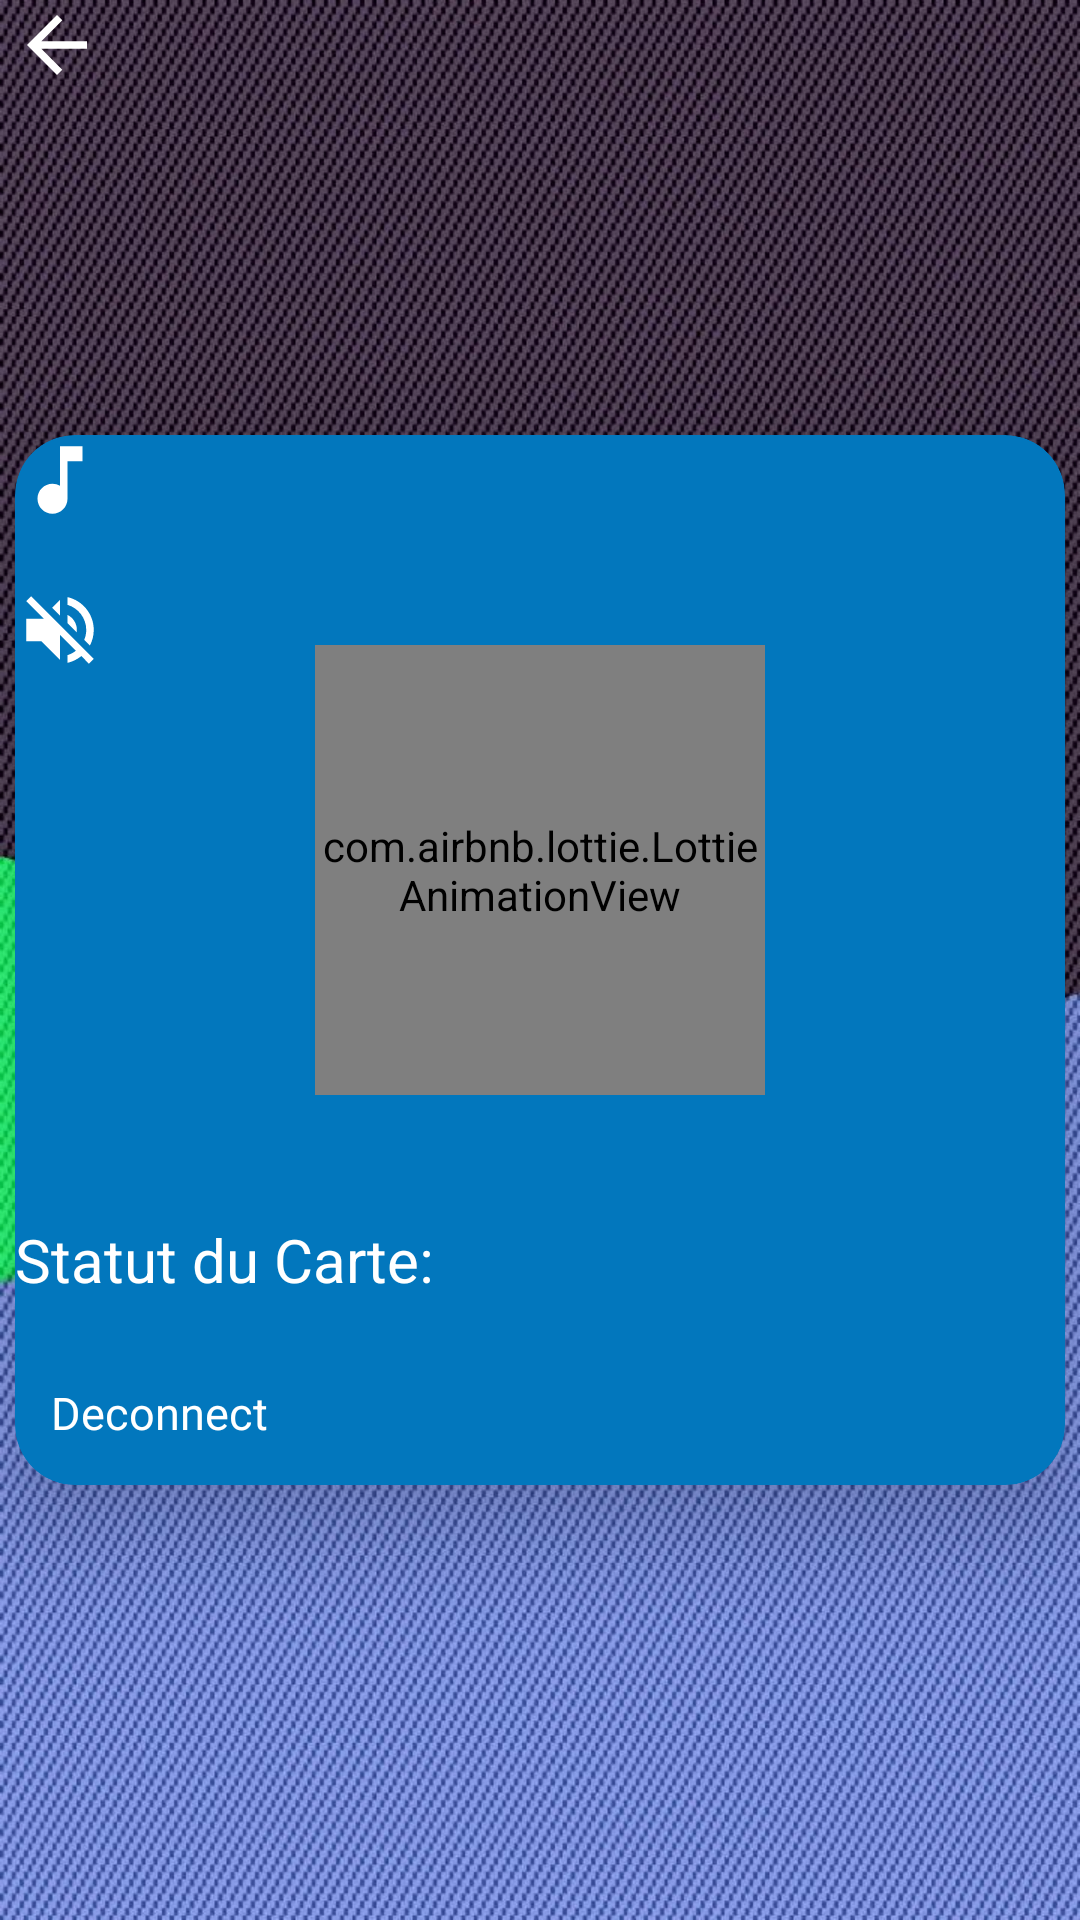

Icon click points for this 1080px×1920px phone screenshot, format [x,y]:
music note: [60,480]
ret: [57,45]
volume off: [60,630]
